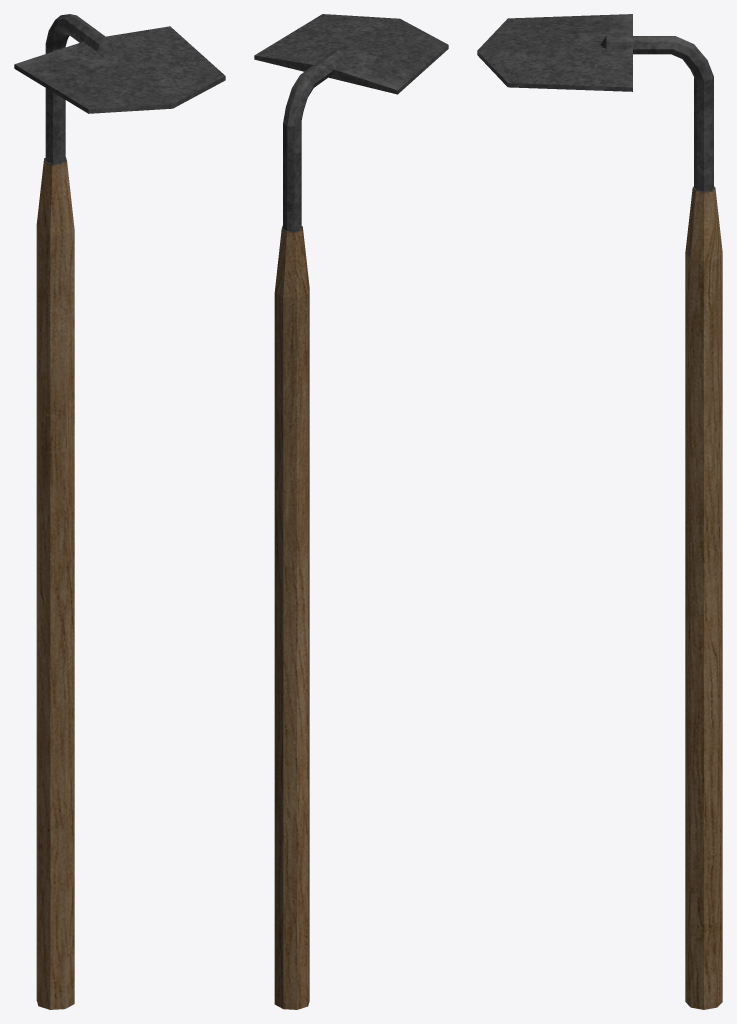
File: hoe_tool.obj
3 renders of one model, left to right at view 1: azimuth 30°, elevation 25°; view 2: azimuth 150°, elevation 25°; view 3: azimuth 270°, elevation 25°, orthographic. The views are drawn at different scales.
Parts seen in each view (by area): view 1: pCylinder1; view 2: pCylinder1; view 3: pCylinder1.
Boxes of the visible parts, <box> form: pCylinder1: <box>14,14,225,1009</box>; pCylinder1: <box>254,14,448,1009</box>; pCylinder1: <box>477,14,722,1009</box>.
Size of the model in its own units: 0.242 by 1.48 by 0.3415.
1 material, 1 textured.
